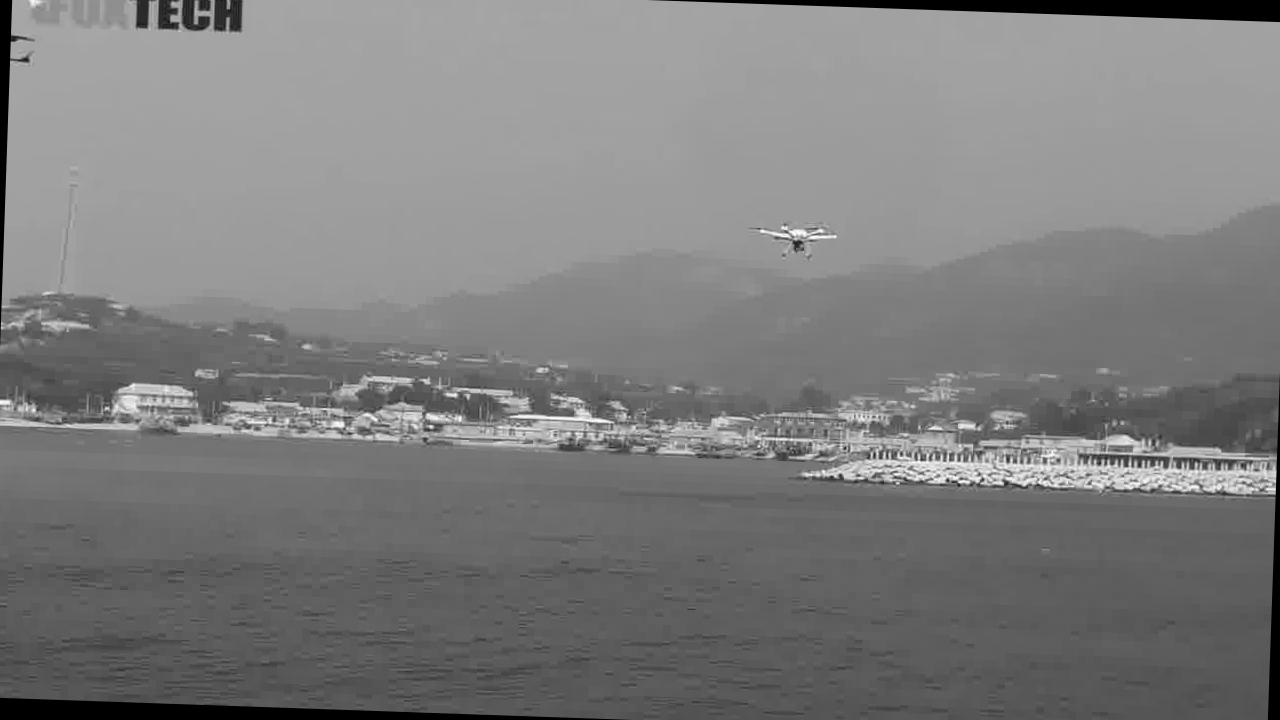drone: (740, 202, 846, 272)
